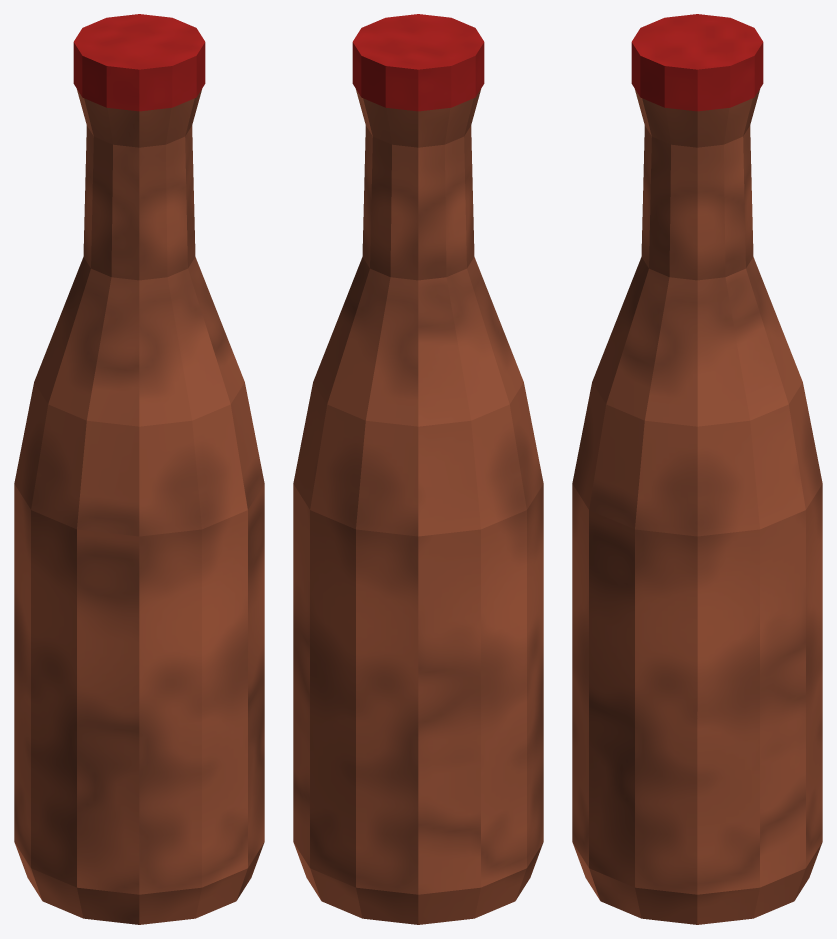
The model's file is wine_bottle.fbx.
3 views of the same model, side by side, from view 1: azimuth 30°, elevation 25°; view 2: azimuth 150°, elevation 25°; view 3: azimuth 270°, elevation 25° (orthographic).
Visible parts, largest first — view 1: wine_bottle; view 2: wine_bottle; view 3: wine_bottle.
Boxes of the visible parts, x1,y1,x2,y2 form: wine_bottle: (14,14,264,924); wine_bottle: (293,14,543,924); wine_bottle: (572,14,822,924).
Size of the model in its own units: 7.6 by 28 by 7.6.
